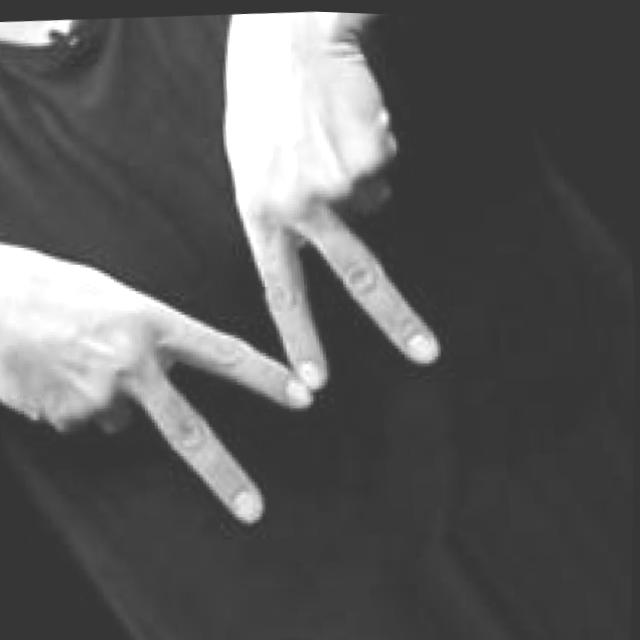M: (0, 0, 466, 559)
